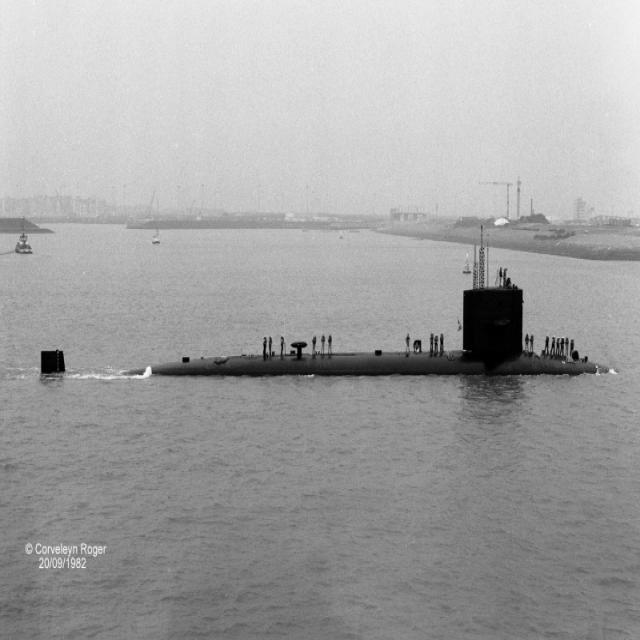submarine: (33, 279, 616, 373)
